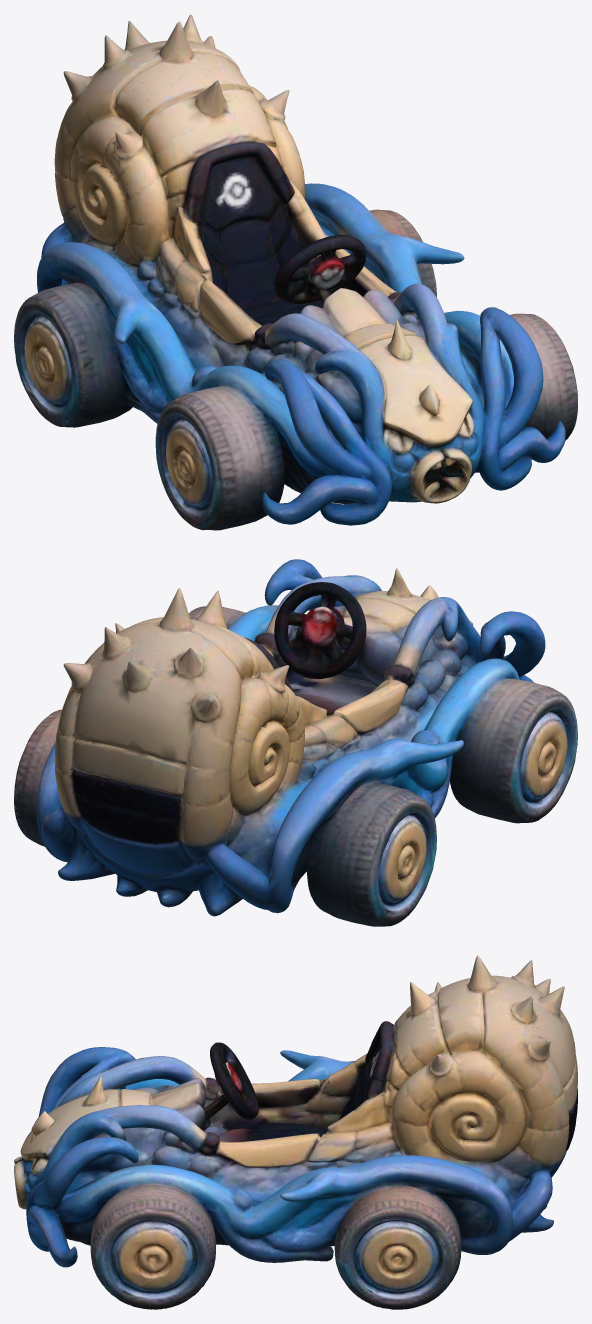
File: omastar.glb
3 views of the same model, one above another, from view 1: azimuth 30°, elevation 25°; view 2: azimuth 150°, elevation 25°; view 3: azimuth 270°, elevation 25° (orthographic). The views are drawn at different scales.
Parts seen in each view (by area): view 1: node_0; view 2: node_0; view 3: node_0.
Boxes of the visible parts, left/top/right/bottom form: node_0: left=14, top=14, right=577, bottom=530; node_0: left=14, top=559, right=577, bottom=926; node_0: left=14, top=955, right=577, bottom=1309.
Bounding box in the file's own units: 0.7299 × 0.6241 × 1.13.
1 material, 1 textured.
